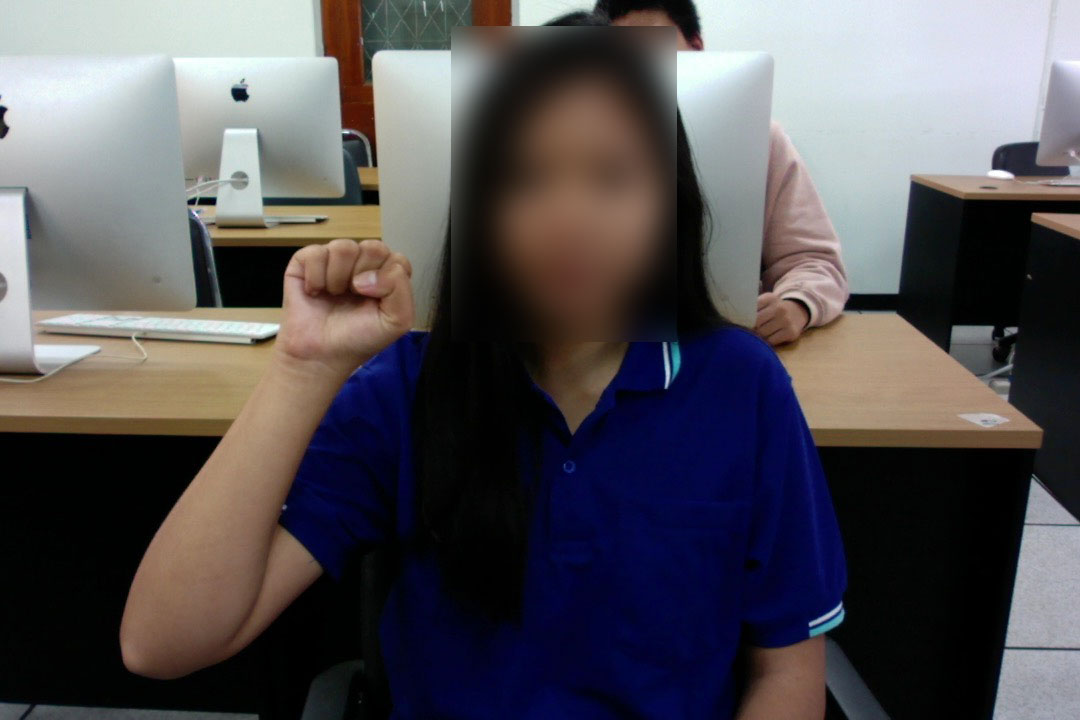sor: (268, 232, 419, 404)
